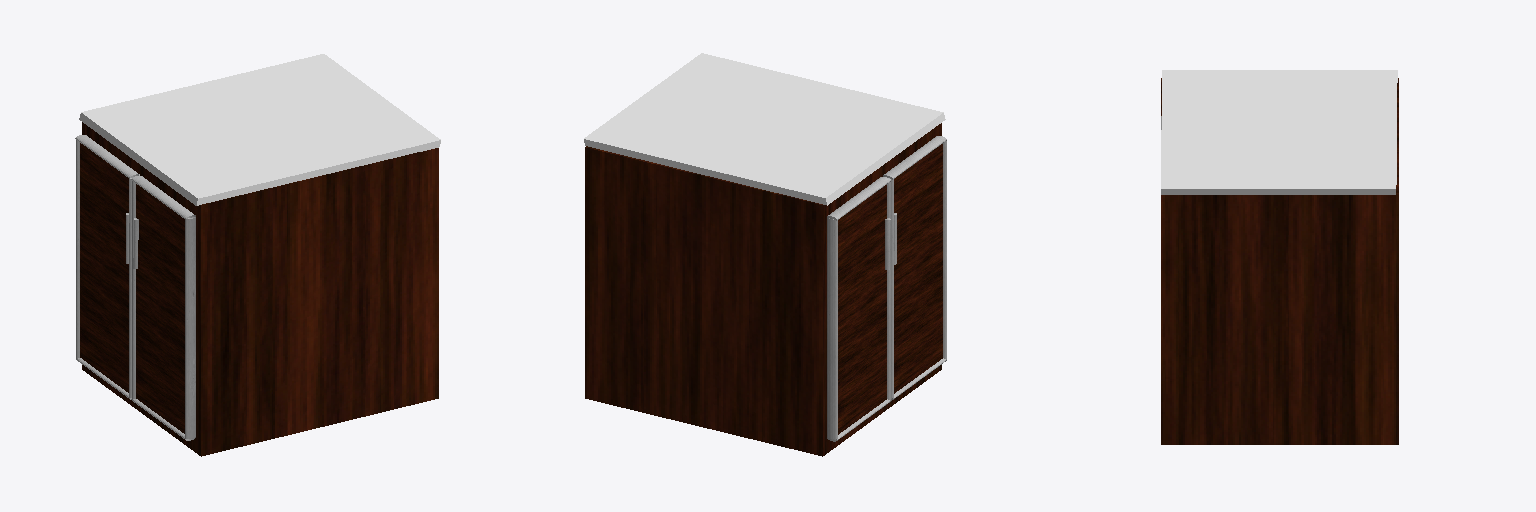
The picture shows the model from 3 angles: view 1: azimuth 30°, elevation 25°; view 2: azimuth 150°, elevation 25°; view 3: azimuth 270°, elevation 25°; orthographic projection.
Parts seen in each view (by area): view 1: pasted__pasted__polySurface113 group55 polySurface130, pasted__pasted__polySurface113 group55 polySurface143, pasted__pasted__polySurface113 group55 polySurface140, pasted__pasted__polySurface113 group55 polySurface133, pasted__pasted__polySurface113 group55 polySurface138, pasted__pasted__polySurface113 group55 polySurface134, polySurface141 pasted__pasted__polySurface113 group55, pasted__pasted__polySurface113 group55 polySurface131, pasted__pasted__polySurface113 group55 polySurface139, pasted__pasted__polySurface113 group55 polySurface132; view 2: pasted__pasted__polySurface113 group55 polySurface130, pasted__pasted__polySurface113 group55 polySurface143, pasted__pasted__polySurface113 group55 polySurface133, pasted__pasted__polySurface113 group55 polySurface140, pasted__pasted__polySurface113 group55 polySurface134, pasted__pasted__polySurface113 group55 polySurface138, pasted__pasted__polySurface113 group55 polySurface131, polySurface141 pasted__pasted__polySurface113 group55, pasted__pasted__polySurface113 group55 polySurface132, pasted__pasted__polySurface113 group55 polySurface139; view 3: pasted__pasted__polySurface113 group55 polySurface130, pasted__pasted__polySurface113 group55 polySurface143.
Part boxes in pixels (x1,y1,x2,y2): pasted__pasted__polySurface113 group55 polySurface130: (82,122,438,456); pasted__pasted__polySurface113 group55 polySurface143: (79,54,440,205); pasted__pasted__polySurface113 group55 polySurface140: (136,184,184,433); pasted__pasted__polySurface113 group55 polySurface133: (80,143,128,392); pasted__pasted__polySurface113 group55 polySurface138: (185,217,195,438); pasted__pasted__polySurface113 group55 polySurface134: (76,140,79,358); polySurface141 pasted__pasted__polySurface113 group55: (132,181,135,399); pasted__pasted__polySurface113 group55 polySurface131: (129,178,131,397); pasted__pasted__polySurface113 group55 polySurface139: (131,175,195,218); pasted__pasted__polySurface113 group55 polySurface132: (75,135,139,177); pasted__pasted__polySurface113 group55 polySurface130: (585,123,941,456); pasted__pasted__polySurface113 group55 polySurface143: (584,53,945,205); pasted__pasted__polySurface113 group55 polySurface133: (838,185,886,434); pasted__pasted__polySurface113 group55 polySurface140: (894,144,942,393); pasted__pasted__polySurface113 group55 polySurface134: (827,218,837,439); pasted__pasted__polySurface113 group55 polySurface138: (943,141,946,359); pasted__pasted__polySurface113 group55 polySurface131: (887,182,890,400); polySurface141 pasted__pasted__polySurface113 group55: (889,178,893,398); pasted__pasted__polySurface113 group55 polySurface132: (827,177,890,220); pasted__pasted__polySurface113 group55 polySurface139: (883,136,946,179); pasted__pasted__polySurface113 group55 polySurface130: (1161,78,1398,444); pasted__pasted__polySurface113 group55 polySurface143: (1161,70,1397,194).
Bounding box in the file's own units: 0.582 × 0.5682 × 0.4759.
Materials: 12 (3 with a texture image).